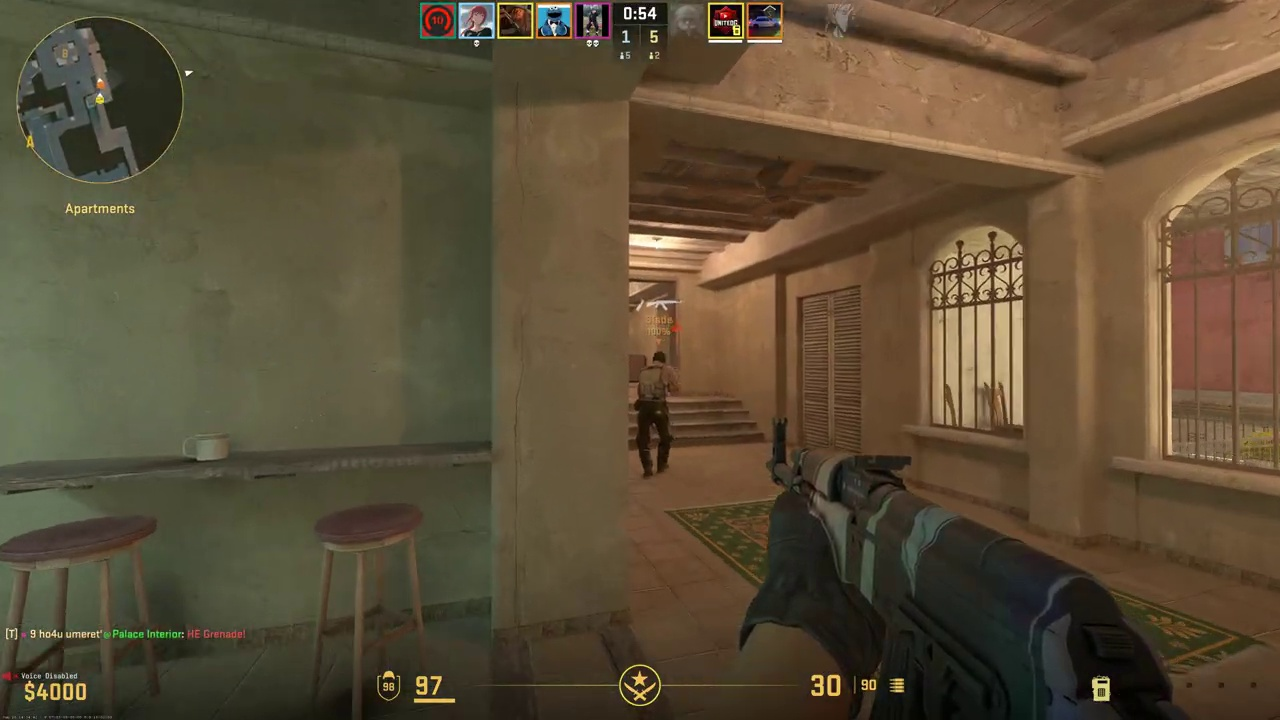Terrorist: (635, 352, 680, 478)
